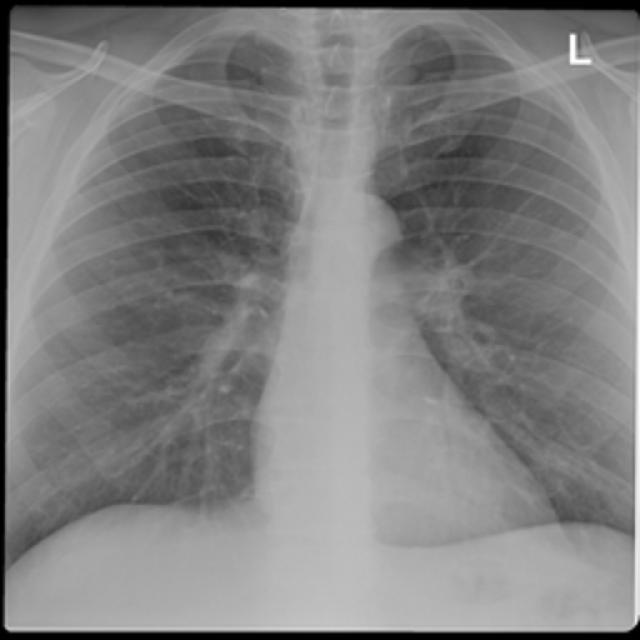diaphragm: (9, 506, 630, 622)
heart: (252, 184, 560, 575)
left_lobe: (373, 20, 636, 557)
right_lobe: (6, 26, 306, 578)
